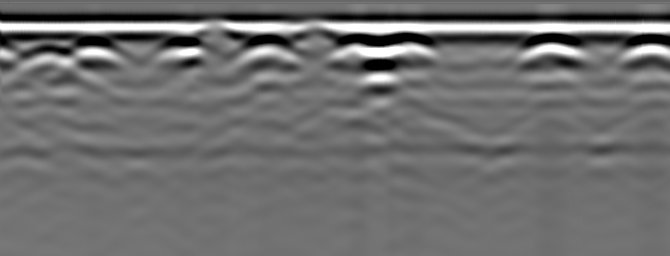pipe: (290, 24, 340, 43), (192, 23, 237, 40)
steel: (337, 34, 434, 69), (521, 35, 584, 70), (235, 36, 294, 72), (617, 37, 670, 75), (70, 38, 120, 69), (157, 40, 205, 72)
